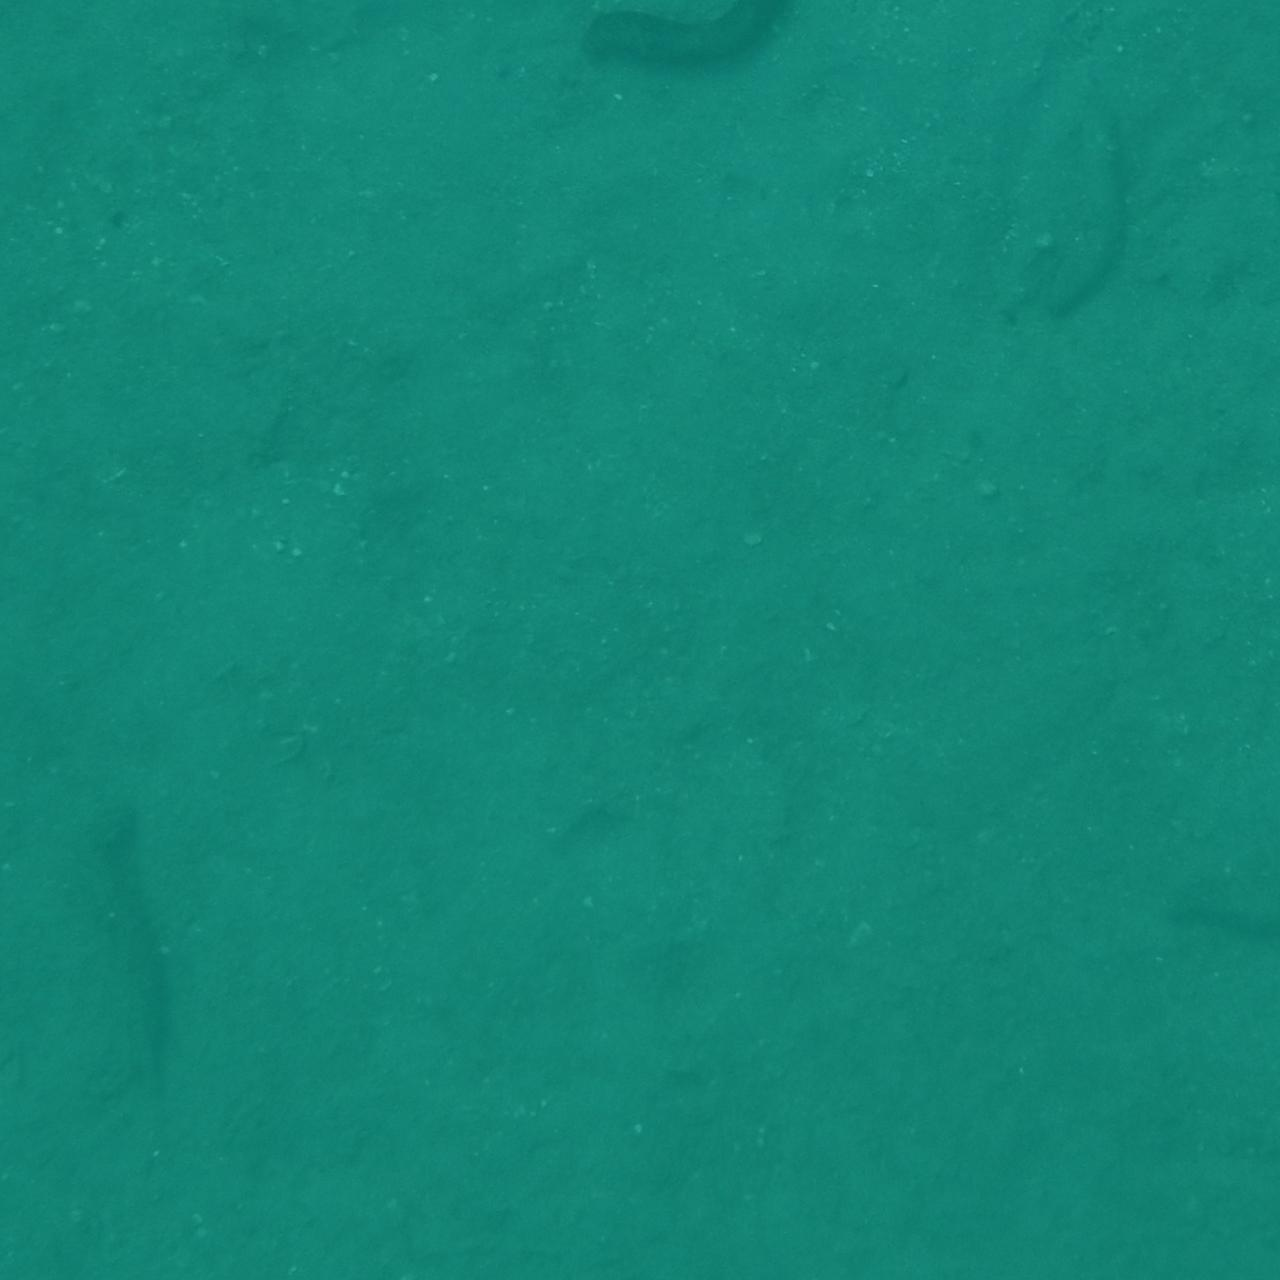Holothuria tubulosa: (72, 791, 189, 1143), (1016, 82, 1133, 336), (1112, 1065, 1280, 1216), (0, 281, 98, 532), (0, 549, 165, 687), (1158, 799, 1280, 953), (1200, 213, 1280, 445), (157, 0, 349, 95), (577, 0, 855, 66), (0, 893, 142, 1009), (0, 297, 59, 576), (1157, 1064, 1280, 1178), (1205, 525, 1280, 704), (1205, 202, 1280, 381), (0, 0, 77, 163), (1175, 0, 1280, 111), (1138, 1201, 1280, 1280), (0, 1201, 120, 1280), (465, 1163, 540, 1280), (1207, 1164, 1280, 1280), (0, 0, 103, 80), (1178, 1200, 1280, 1280), (0, 1220, 123, 1280), (1162, 1223, 1280, 1280)
